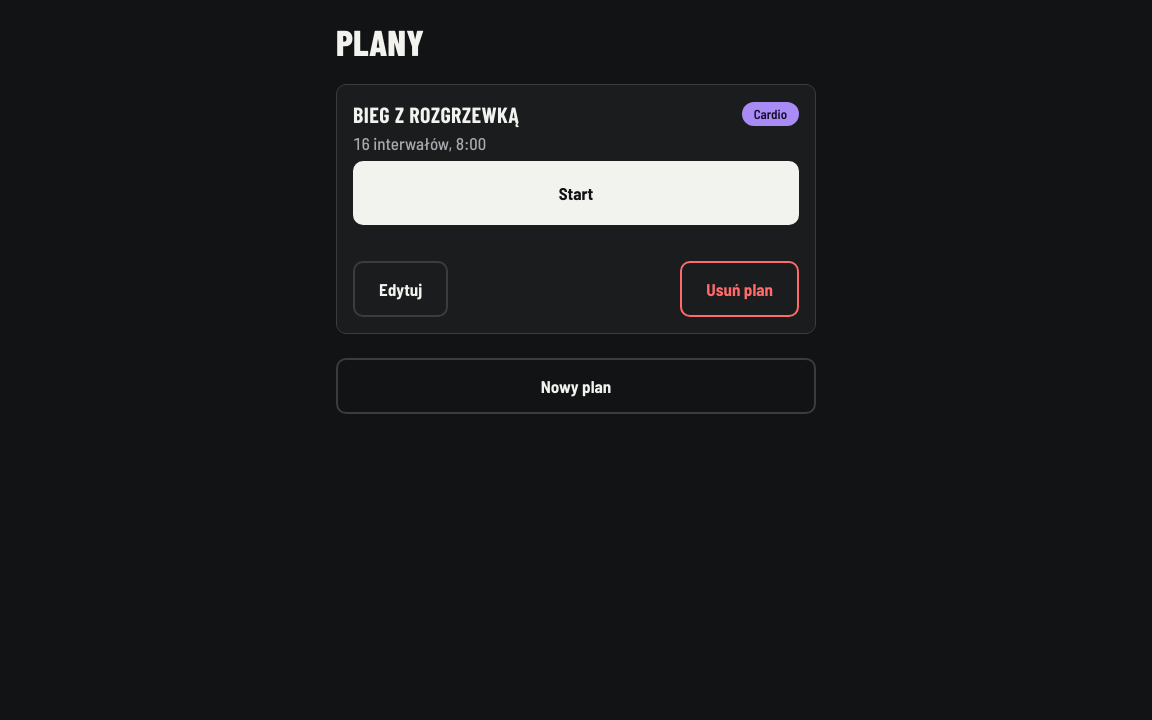
Test: cardio plans through the app › Start on a cardio card starts the cardio session (phase 5)
What coordinates should you click on to do the following:
click the button "Start"
I would click on:
 (576, 193)
Its box is x1=353 y1=161 x2=799 y2=225.
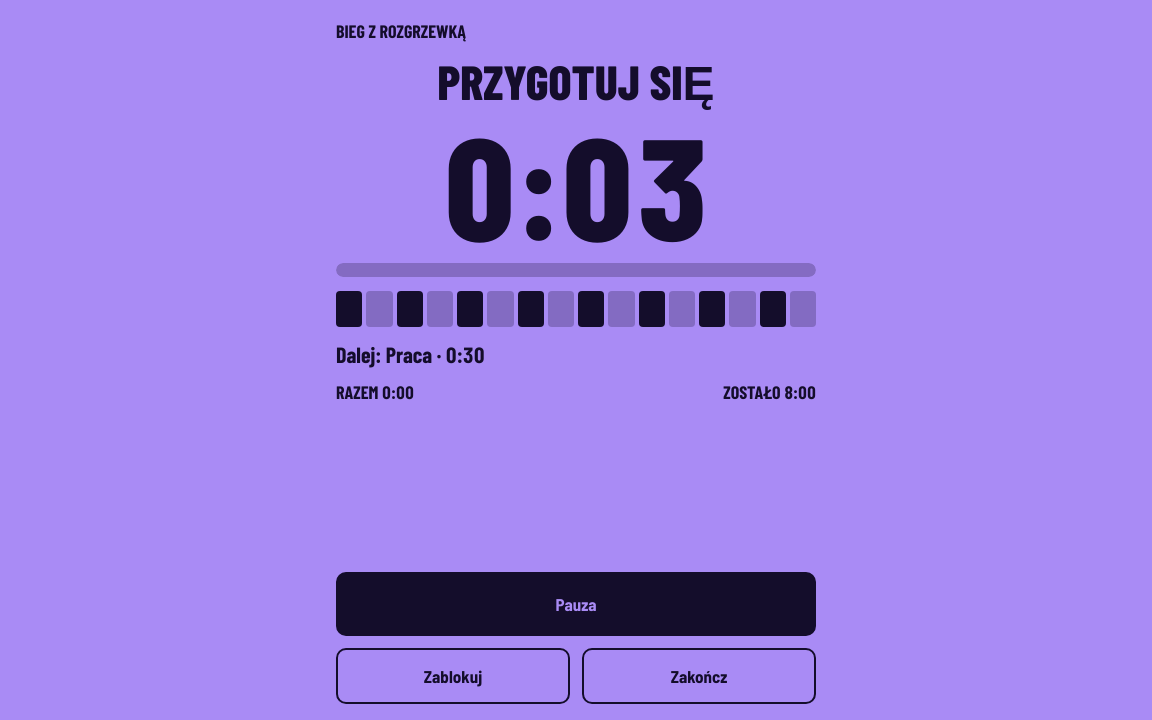
Expected: the heading "PRZYGOTUJ SIĘ" is shown, x1=437 y1=57 x2=715 y2=105
